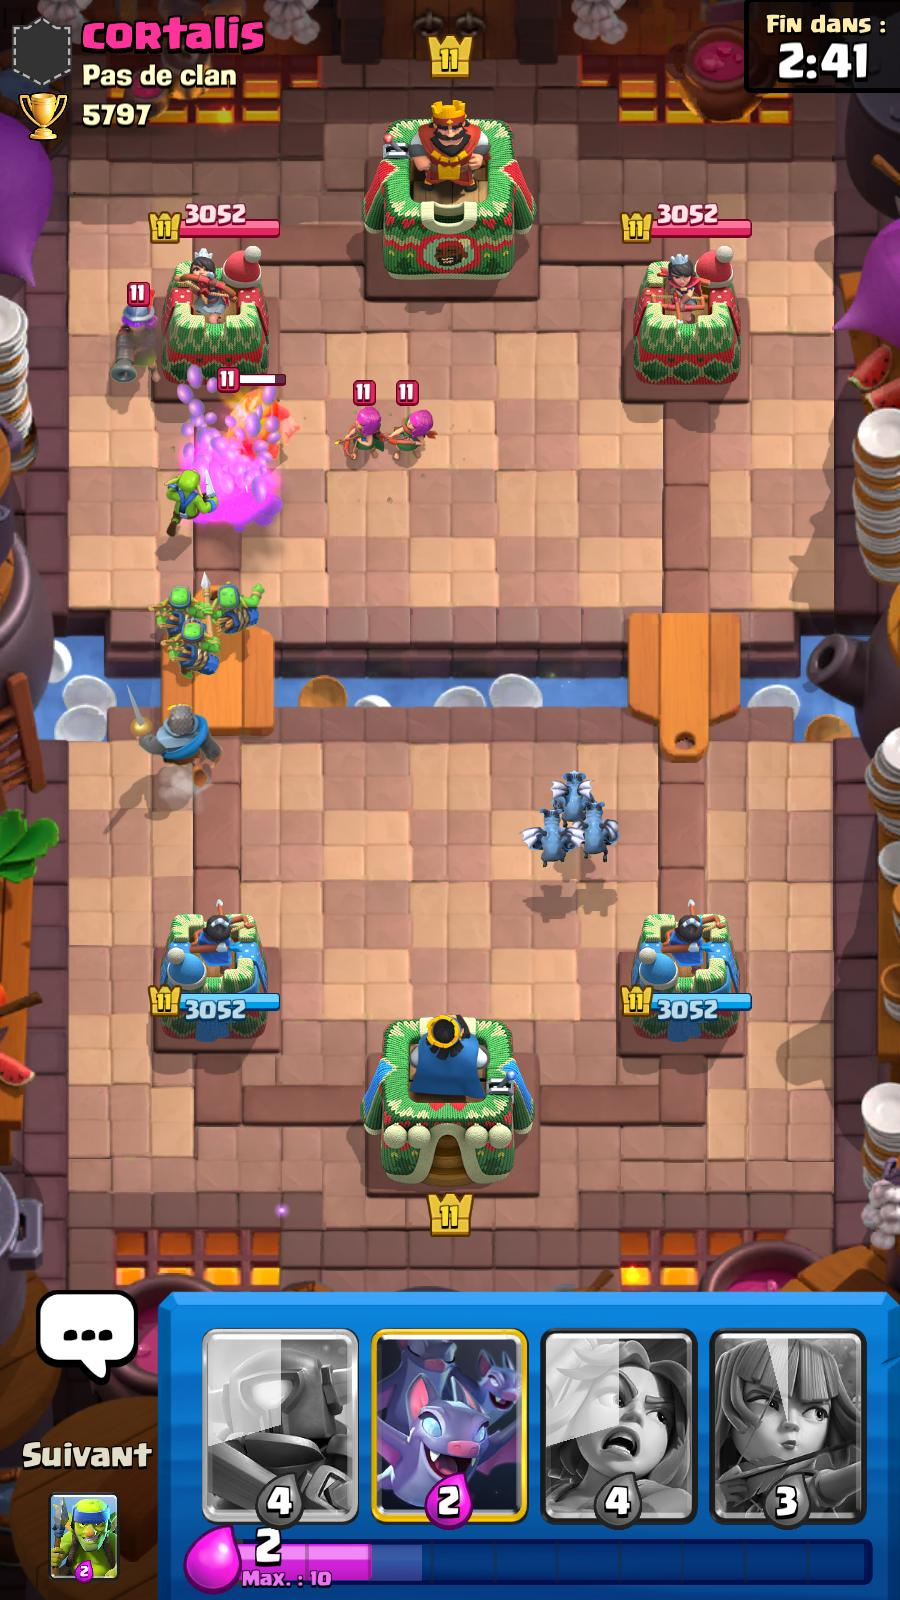archere: (329, 392, 398, 468), (395, 391, 446, 456)
chevalier: (120, 687, 230, 808)
gargouille: (536, 764, 605, 827), (576, 800, 635, 871), (520, 810, 590, 869)
gobelin: (158, 457, 226, 542)
gobelin_lances: (149, 563, 218, 635), (203, 567, 267, 637), (162, 618, 226, 686)
mousquetaire: (107, 279, 168, 400)
